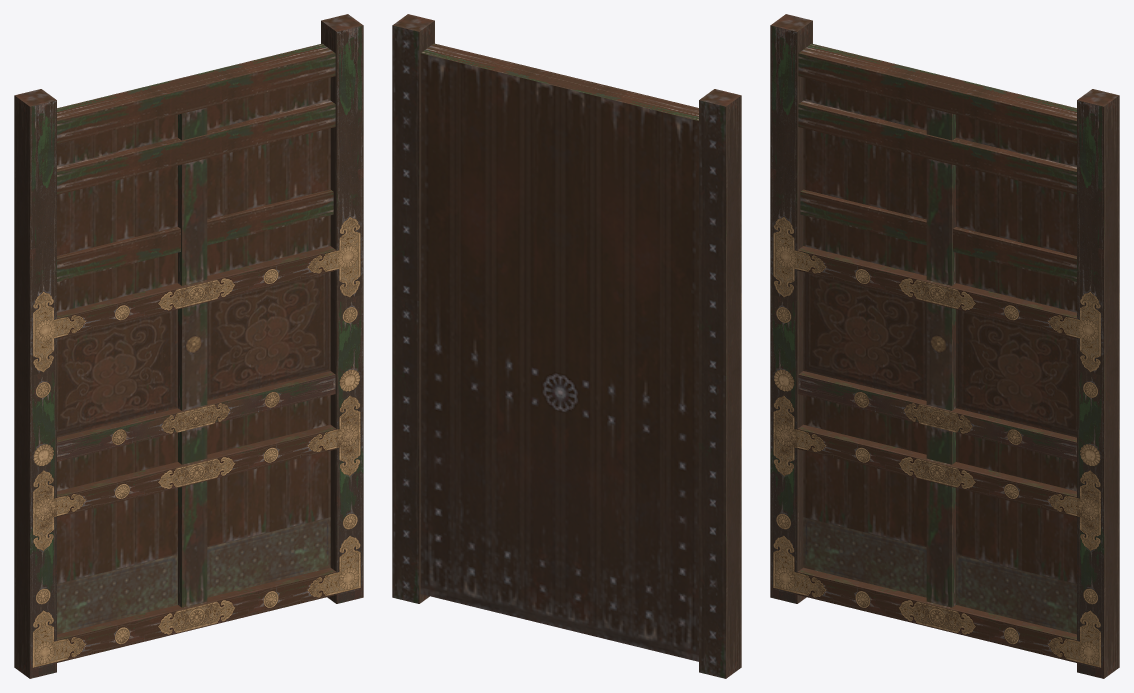
File: b_zx_damen01.FBX
The picture shows the model from 3 angles, left to right: view 1: azimuth 30°, elevation 25°; view 2: azimuth 150°, elevation 25°; view 3: azimuth 330°, elevation 25°; orthographic projection.
Parts seen in each view (by area): view 1: b_zx_damen01; view 2: b_zx_damen01; view 3: b_zx_damen01.
Boxes of the visible parts, left/top/right/bottom form: b_zx_damen01: left=14, top=14, right=363, bottom=678; b_zx_damen01: left=392, top=14, right=741, bottom=678; b_zx_damen01: left=770, top=14, right=1119, bottom=678.
Size of the model in its own units: 2.72 by 4.46 by 0.2197.
